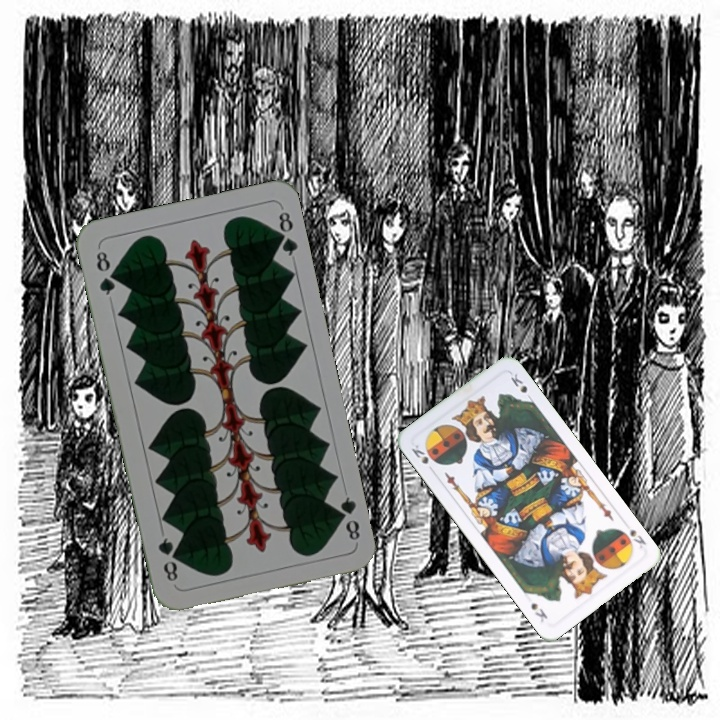G8: (331, 492, 363, 543), (92, 247, 118, 298)
SK: (407, 440, 431, 467), (626, 525, 649, 551)
